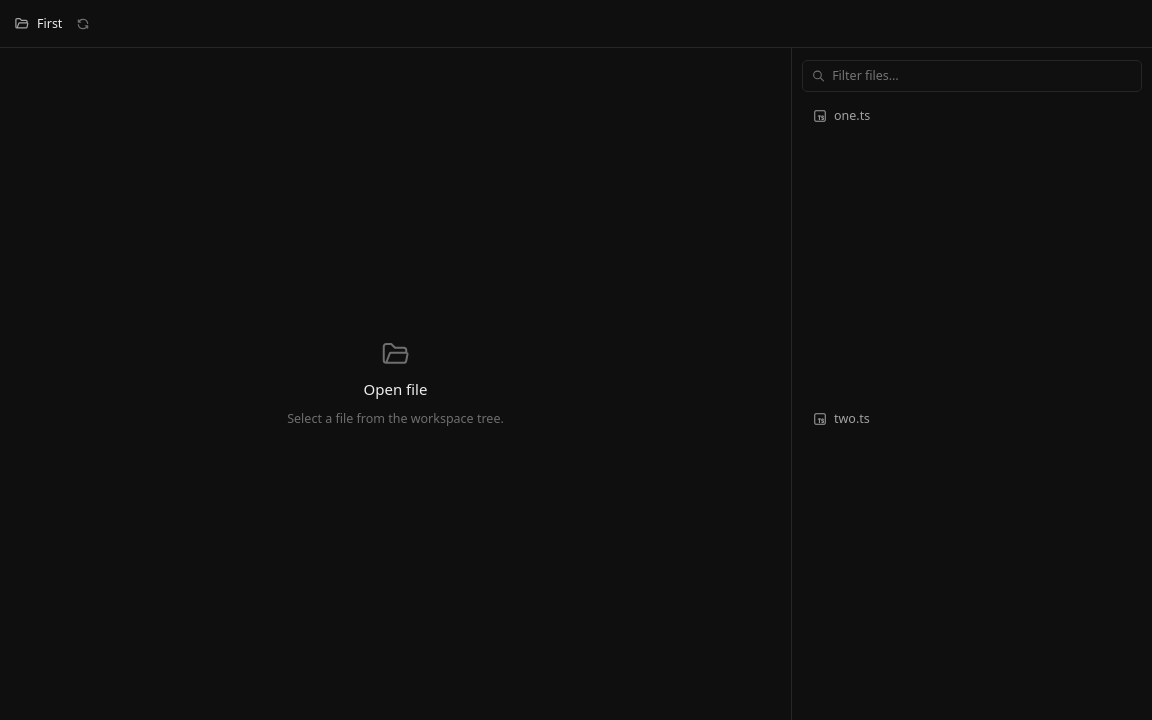
Test: WorkspaceFiles › moves selection between file rows and clears it when the project changes
What coordinates should you click on to do the following:
click the button titled "one.ts"
I would click on:
 (820, 116)
Its box is [800,101,1144,130].
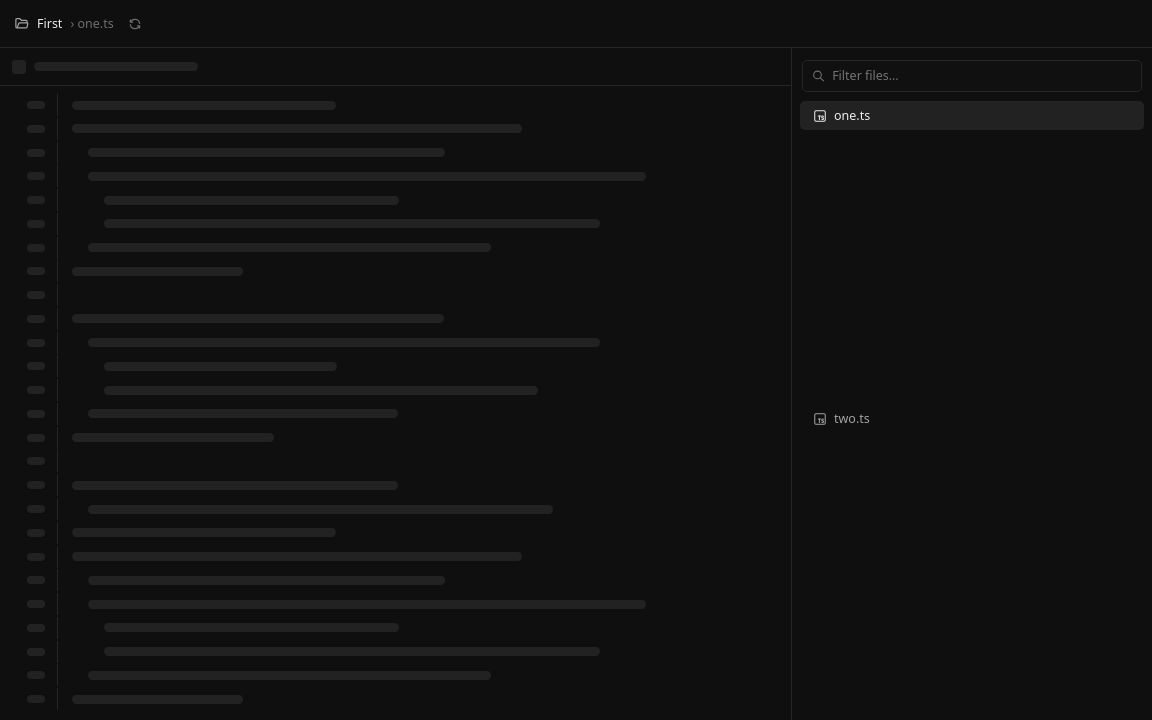
Check: the button titled "one.ts" has class "is-selected", box [800,101,1144,130]
What coordinates should you click on to do the following:
click the button titled "two.ts"
I would click on:
 (820, 419)
Its box is [800,404,1144,434].
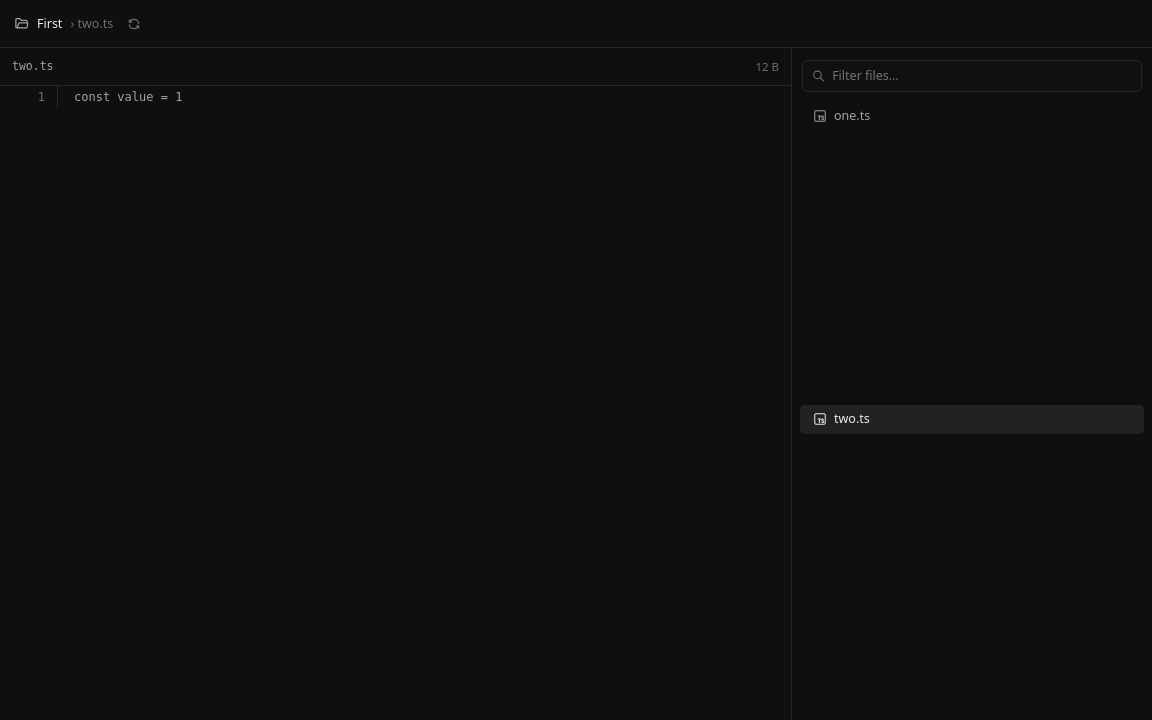
Check: the text "two.ts" is shown, box [12,58,54,75]
